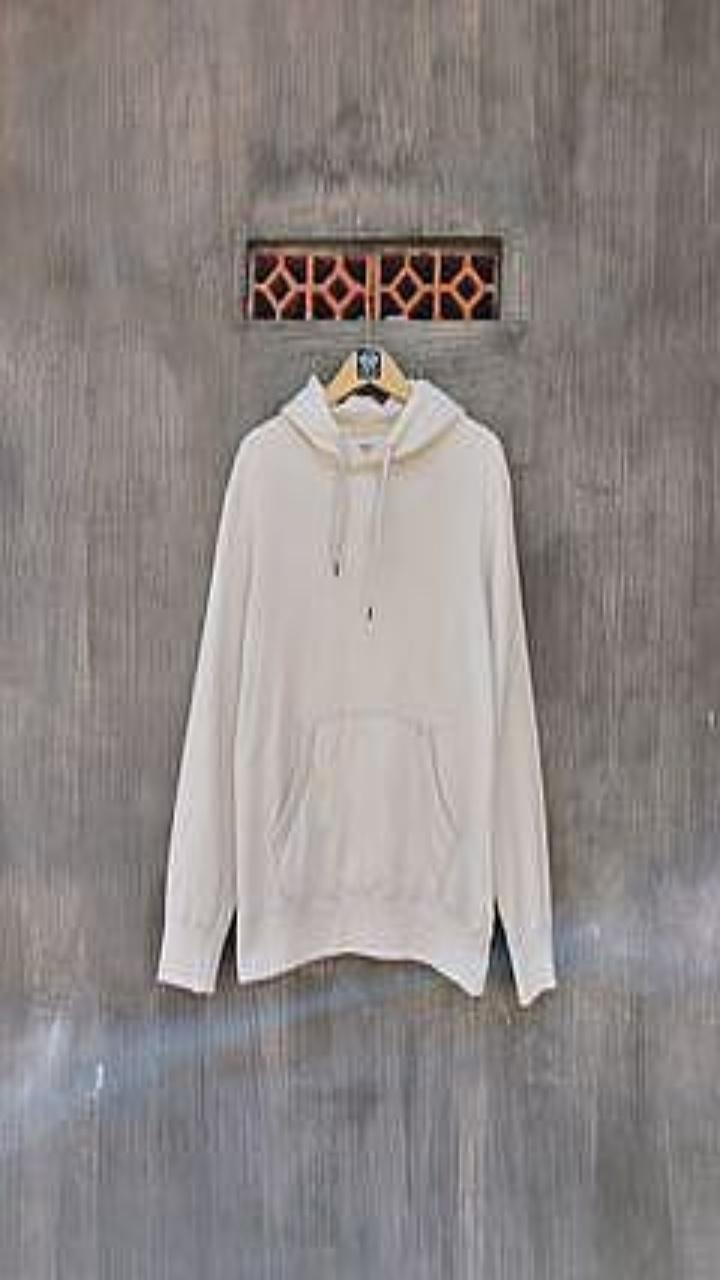Hoodie: (158, 374, 555, 1004)
